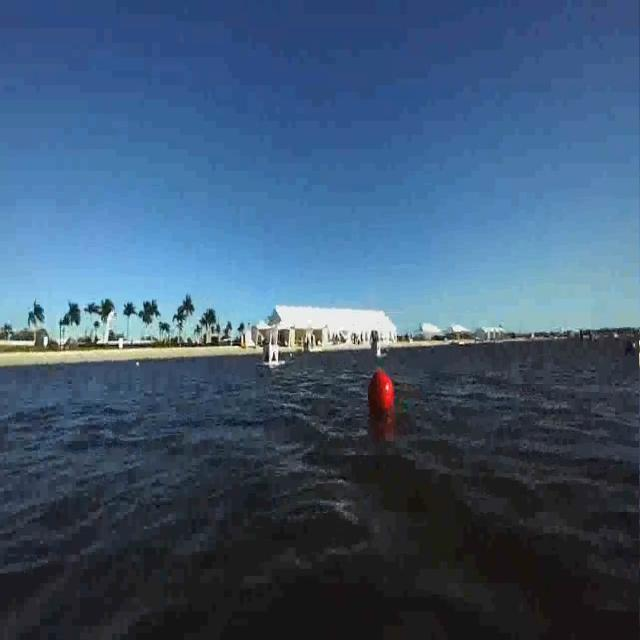red-buoy: (366, 367, 394, 415)
